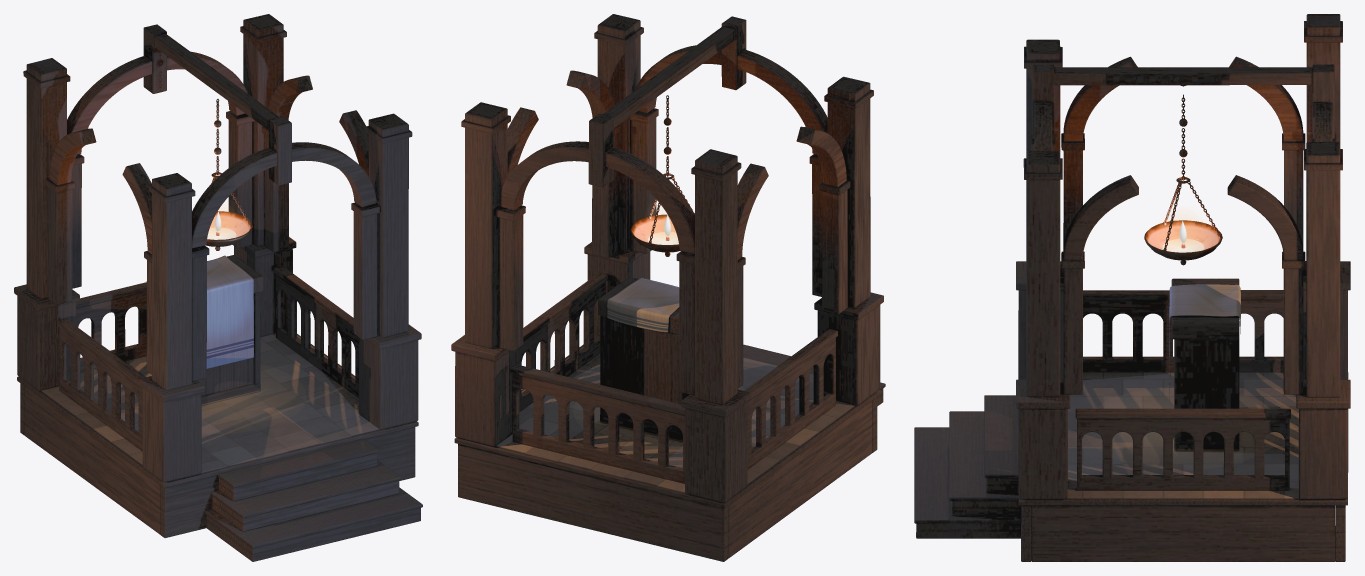
The model's file is bima_ar.glb.
3 renders of one model, left to right at view 1: azimuth 30°, elevation 25°; view 2: azimuth 150°, elevation 25°; view 3: azimuth 270°, elevation 25°, orthographic. The views are drawn at different scales.
Parts seen in each view (by area): view 1: bima; view 2: bima; view 3: bima, halo.
Boxes of the visible parts, <box> form: bima: <box>14,14,422,561</box>; bima: <box>451,14,885,561</box>; bima: <box>914,14,1350,561</box>; halo: <box>1163,218,1203,246</box>.
Bounding box in the file's own units: 2 × 2.8 × 2.6.
4 materials, 4 textured.
